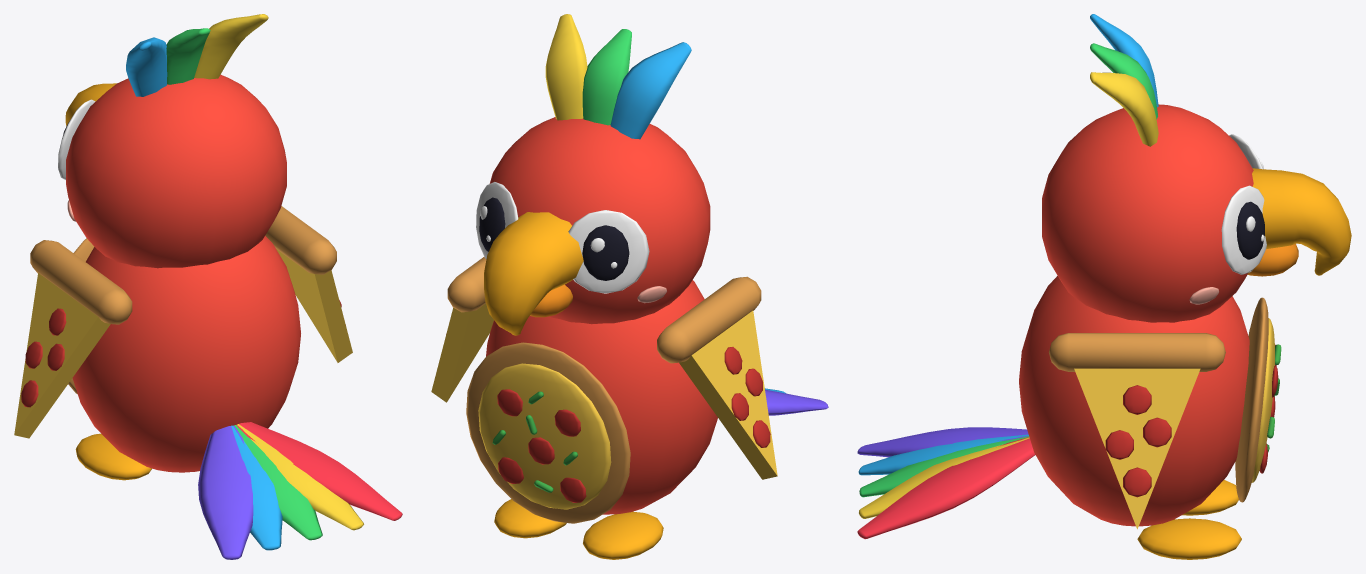
File: cheese+rainbow.glb
3 renders of one model, left to right at view 1: azimuth 30°, elevation 25°; view 2: azimuth 150°, elevation 25°; view 3: azimuth 270°, elevation 25°, orthographic. The views are drawn at different scales.
Visible parts, largest first — view 1: cheese+rainbow; view 2: cheese+rainbow; view 3: cheese+rainbow.
Part boxes in pixels (box(x1,y1,x2,y2)): cheese+rainbow: box(14, 14, 402, 559); cheese+rainbow: box(431, 14, 828, 559); cheese+rainbow: box(857, 14, 1351, 559).
Size of the model in its own units: 2.97 by 3.9 by 3.59.
Materials: 1 (1 with a texture image).
